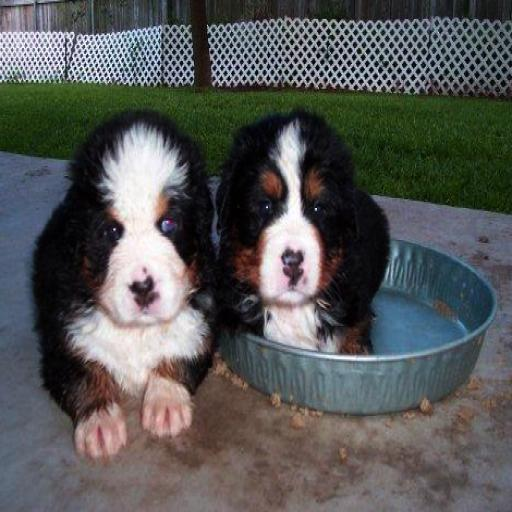dog_face: (73, 117, 212, 324), (222, 112, 354, 317)
